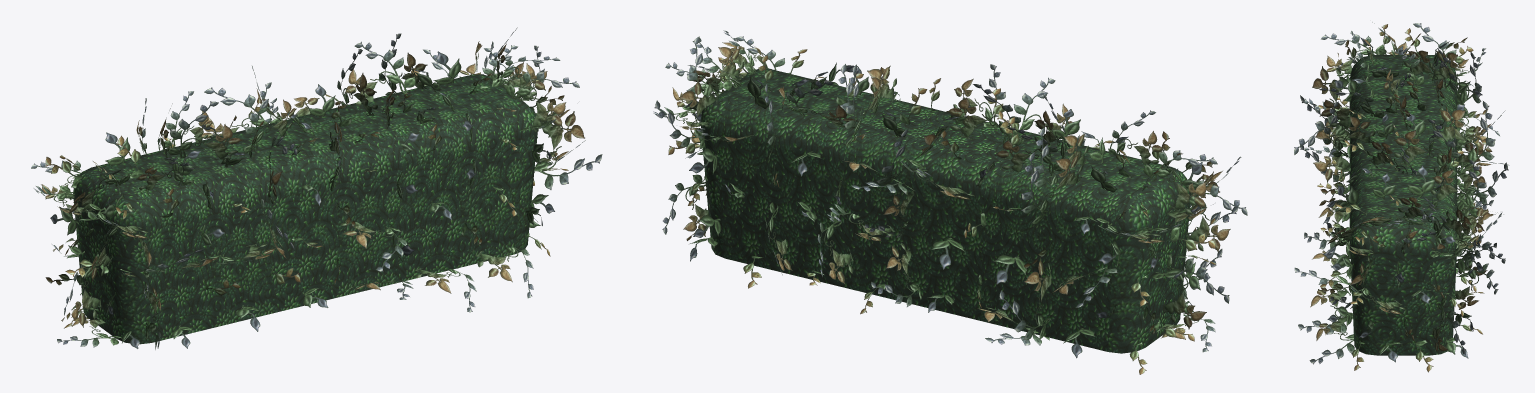
File: Hedge_L.dae
The picture shows the model from 3 angles, left to right: view 1: azimuth 30°, elevation 25°; view 2: azimuth 150°, elevation 25°; view 3: azimuth 270°, elevation 25°; orthographic projection. The views are drawn at different scales.
Parts seen in each view (by area): view 1: Hedge_L; view 2: Hedge_L; view 3: Hedge_L.
Boxes of the visible parts, x1=… form: Hedge_L: x1=31, y1=27, x2=602, y2=349; Hedge_L: x1=653, y1=30, x2=1247, y2=374; Hedge_L: x1=1294, y1=22, x2=1509, y2=372.
Size of what is drawn, in the model's own units: 1026 by 431 by 431.
